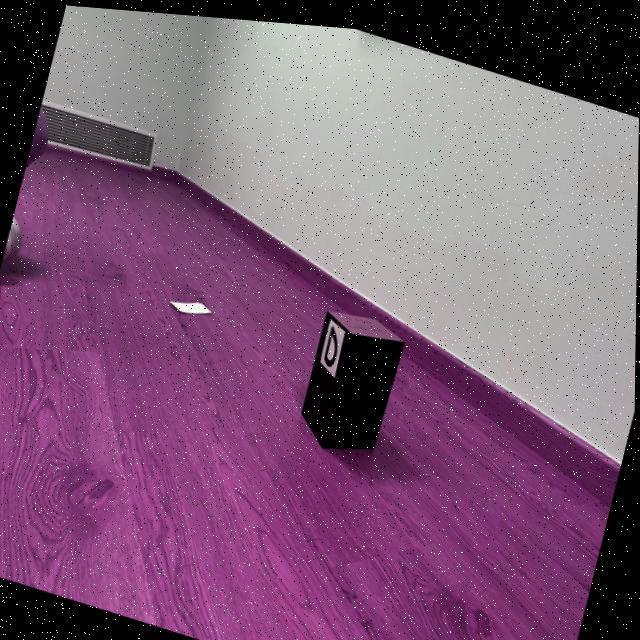D: (325, 320, 338, 361)
